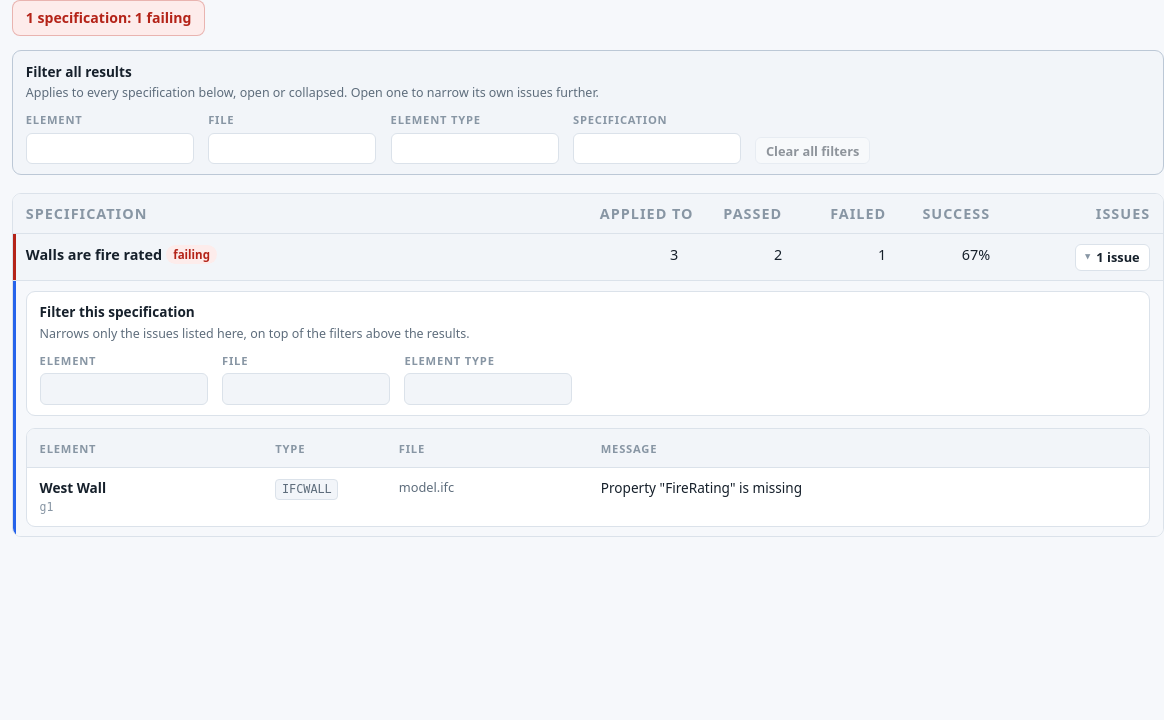
Scenario: CheckSummary › reports no match rather than an empty specification table when nothing survives the filter
The width and height of the screenshot is (1164, 720).
Type "g-nope" into the field named "Filter all results by element name or GlobalId".
click(110, 148); type("g-nope")  # box [26,133,194,164]
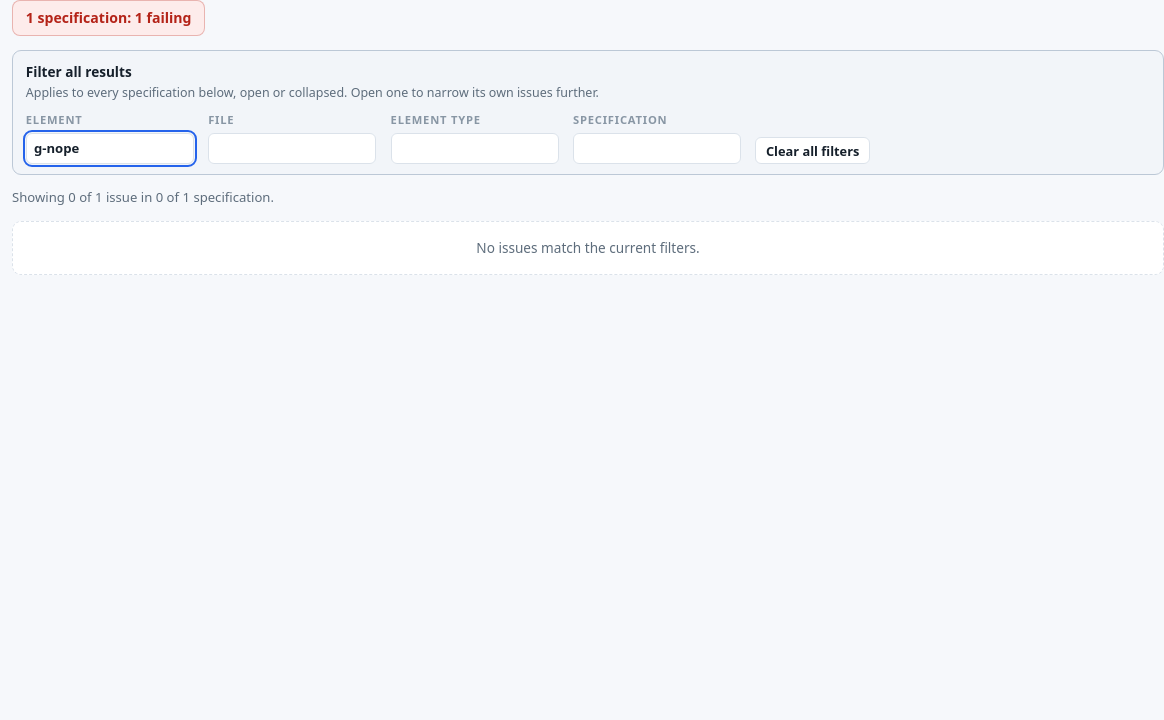
Result: the text "No issues match the current filters." is shown at [12,221,1163,275]
Result: the text "Walls are fire rated" is gone
